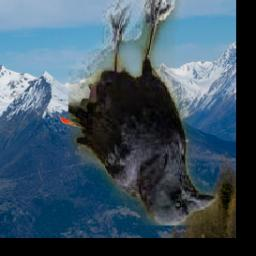Crow: (69, 0, 218, 226)
